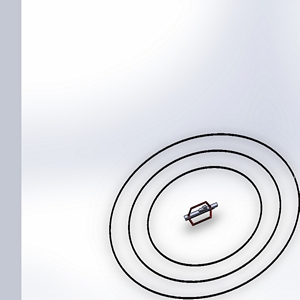circle: (105, 128, 299, 299)
submarine: (180, 193, 229, 233)
